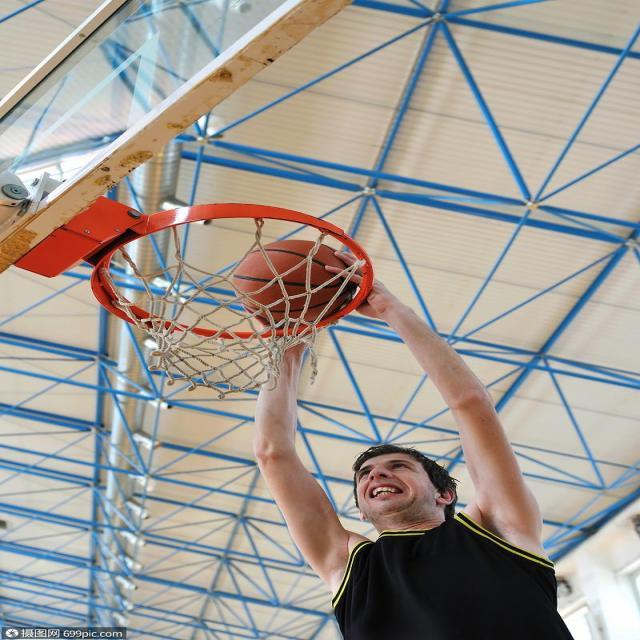rim: (232, 240, 358, 326)
